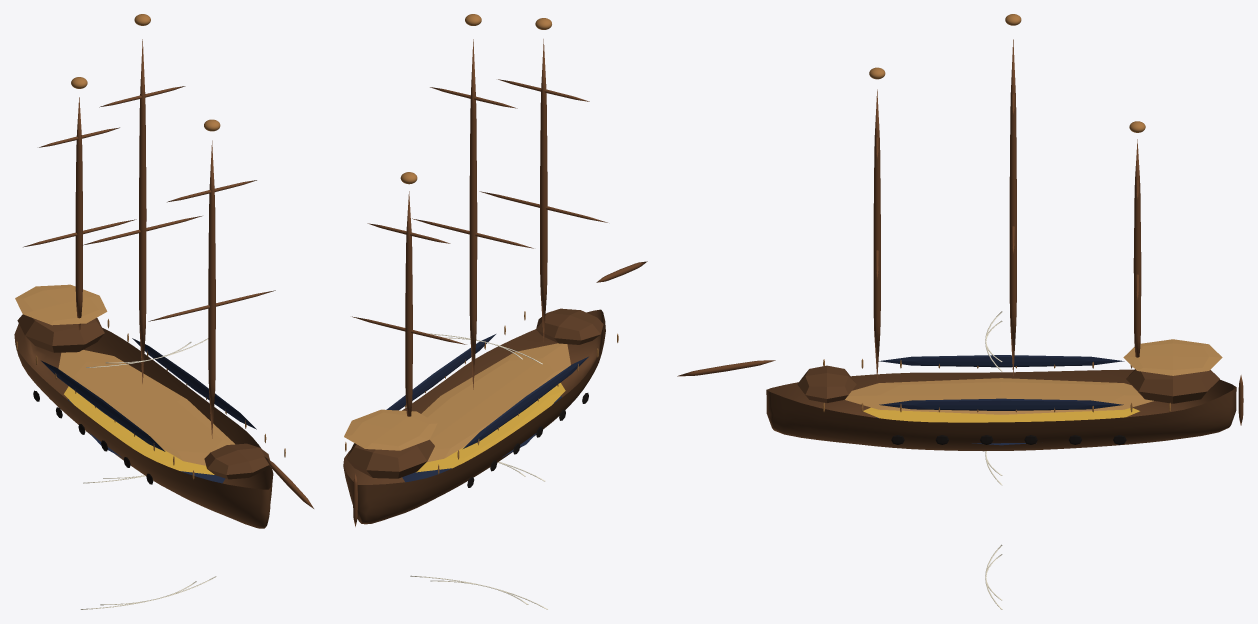
File: ship.glb
3 views of the same model, side by side, from view 1: azimuth 30°, elevation 25°; view 2: azimuth 150°, elevation 25°; view 3: azimuth 270°, elevation 25° (orthographic). The views are drawn at different scales.
Visible parts, largest first — view 1: hullAll; view 2: hullAll; view 3: hullAll.
Part boxes in pixels (box(x1,y1,x2,y2)): hullAll: box(14, 14, 313, 528); hullAll: box(343, 14, 647, 526); hullAll: box(677, 14, 1243, 451).
Size of the model in its own units: 5.2 by 20.98 by 19.18.
